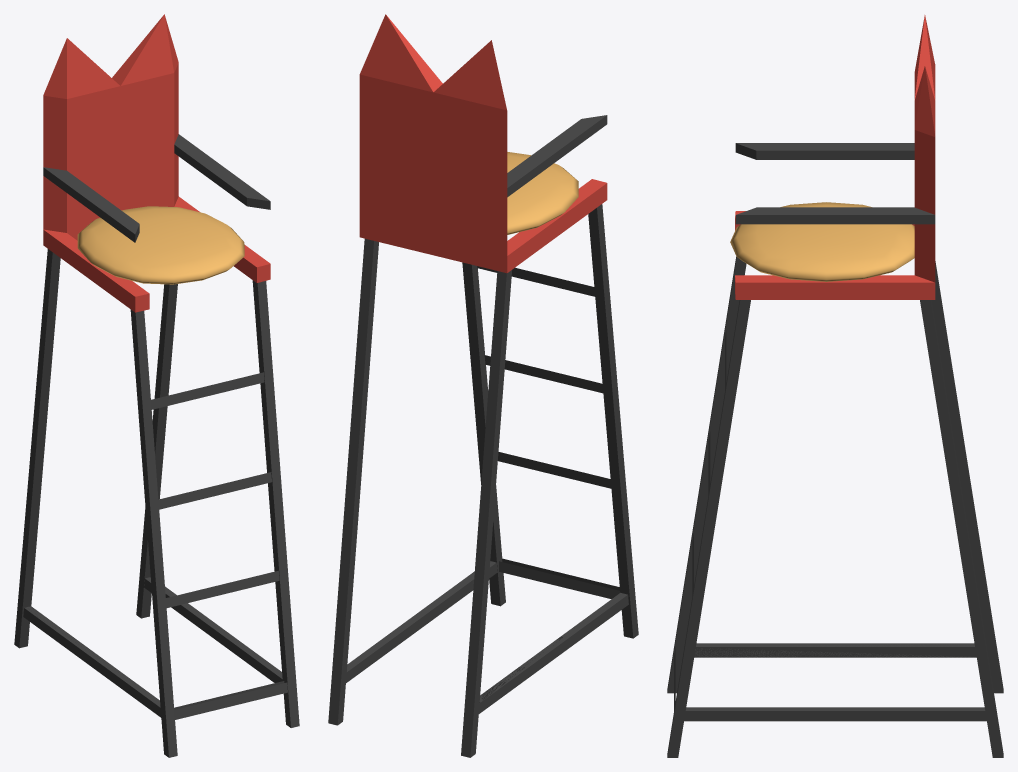
File: Cat_RefereeChair.fbx
3 views of the same model, side by side, from view 1: azimuth 30°, elevation 25°; view 2: azimuth 150°, elevation 25°; view 3: azimuth 270°, elevation 25° (orthographic). The views are drawn at different scales.
Visible parts, largest first — view 1: Cube.010; view 2: Cube.010; view 3: Cube.010.
Boxes of the visible parts, <box> form: Cube.010: <box>14,14,299,757</box>; Cube.010: <box>328,14,638,757</box>; Cube.010: <box>667,15,1003,757</box>.
Size of the model in its own units: 7614 by 32446 by 14461.
